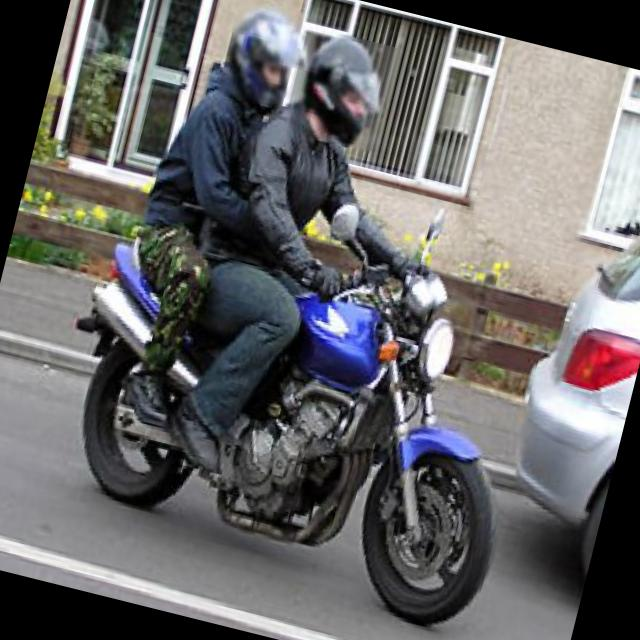With Helmet: (282, 25, 399, 154), (216, 0, 306, 111)
